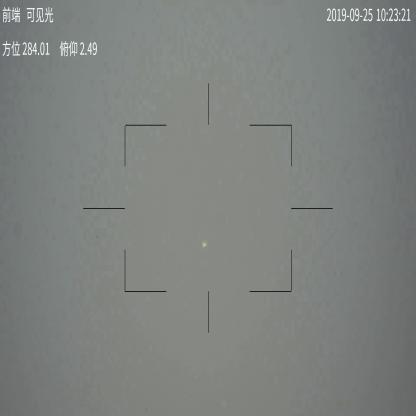uav: (201, 239, 208, 249)
